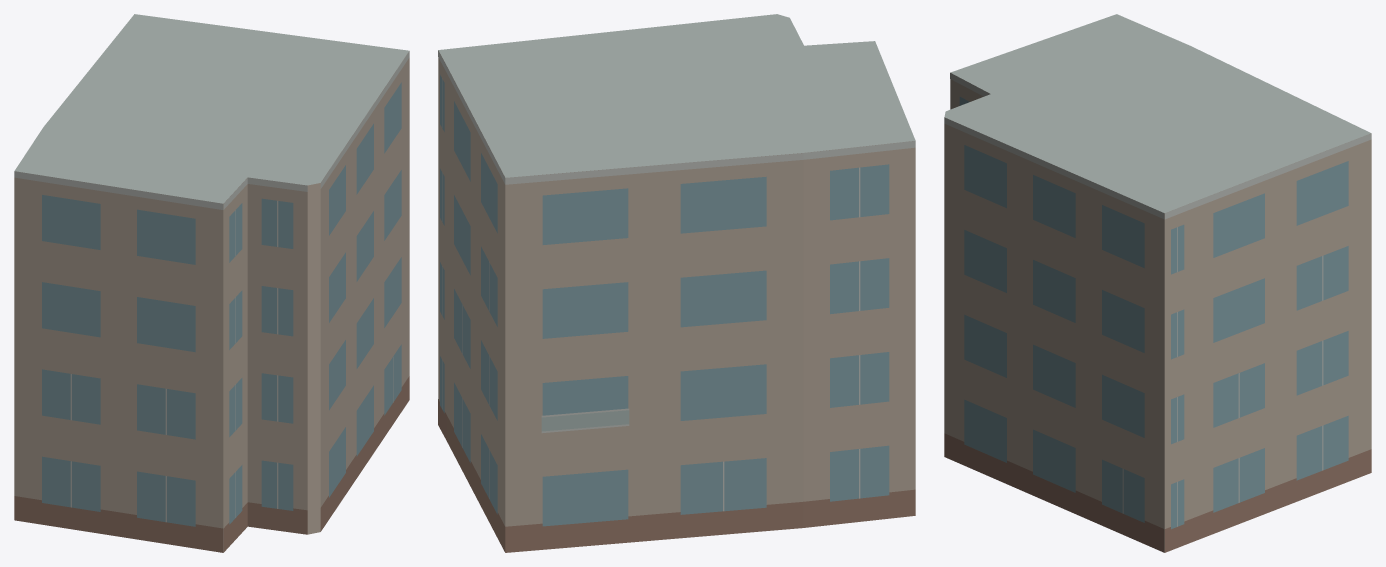
The model's file is survey-upis-32934015.glb.
3 renders of one model, left to right at view 1: azimuth 30°, elevation 25°; view 2: azimuth 150°, elevation 25°; view 3: azimuth 270°, elevation 25°, orthographic. The views are drawn at different scales.
Parts seen in each view (by area): view 1: survey-upis-32934015.tmp; view 2: survey-upis-32934015.tmp; view 3: survey-upis-32934015.tmp.
Part boxes in pixels (left/top/right/bottom): survey-upis-32934015.tmp: left=14, top=14, right=409, bottom=552; survey-upis-32934015.tmp: left=438, top=14, right=915, bottom=552; survey-upis-32934015.tmp: left=944, top=14, right=1371, bottom=552.
Bounding box in the file's own units: 16.62 × 13.2 × 15.05.
